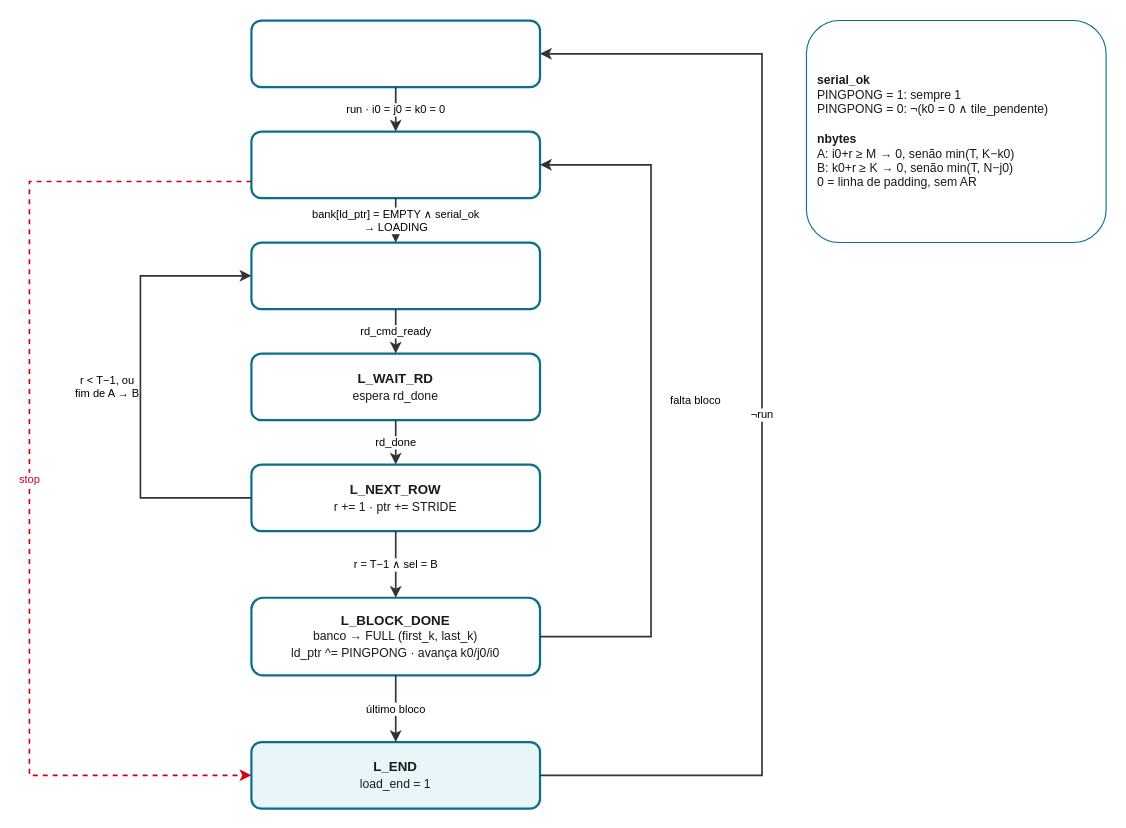
This 1126x828 diagram has some shape labels left out. Each missing label, with the centre of its shape:
L_IDLE —: (395,53)
L_ROW rd_cmd: addr, nbytes, sel, bank, row: (395,275)
L_WAIT_BANK espera banco ld_ptr livre: (395,164)
